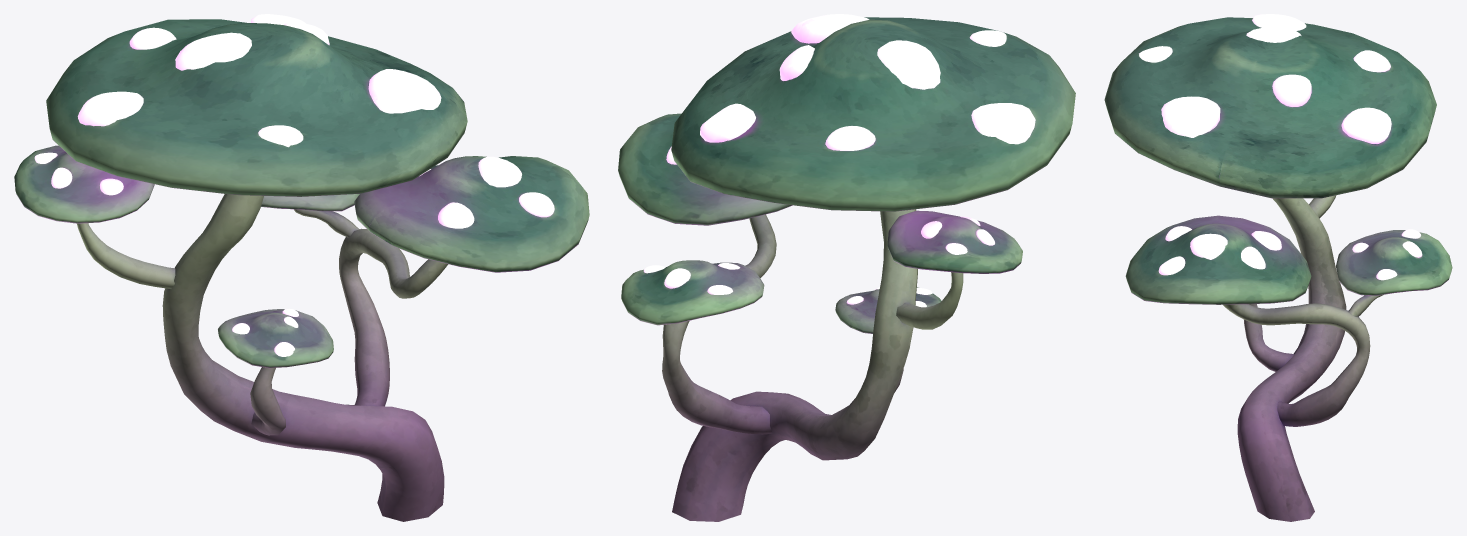
The picture shows the model from 3 angles, left to right: view 1: azimuth 30°, elevation 25°; view 2: azimuth 150°, elevation 25°; view 3: azimuth 270°, elevation 25°; orthographic projection. The views are drawn at different scales.
Parts seen in each view (by area): view 1: Mushroom_flat_low1; view 2: Mushroom_flat_low1; view 3: Mushroom_flat_low1.
Boxes of the visible parts, box(x1,y1,x2,y2) form: Mushroom_flat_low1: box(14, 14, 589, 521); Mushroom_flat_low1: box(618, 14, 1075, 521); Mushroom_flat_low1: box(1104, 14, 1452, 521).
Size of the model in its own units: 439 by 463 by 355.
1 material, 1 textured.
